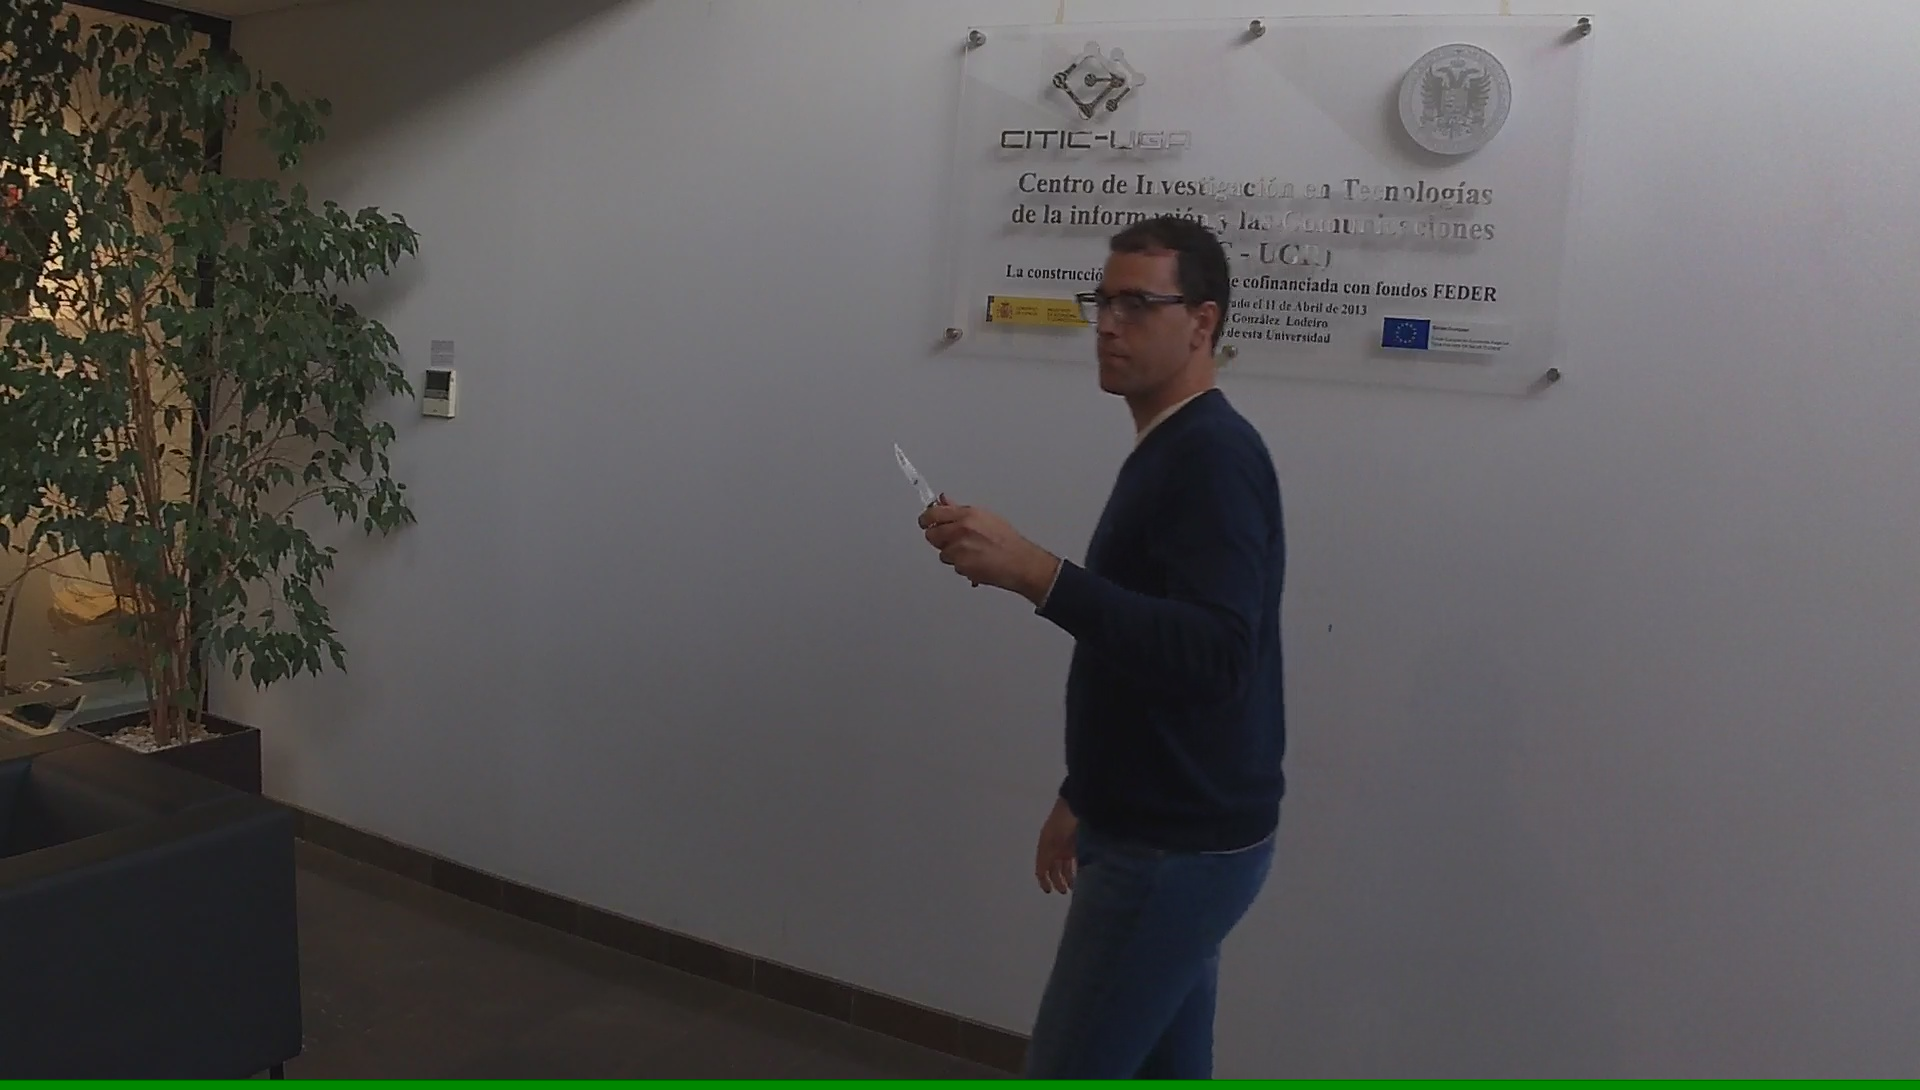knife: (884, 430, 984, 592)
